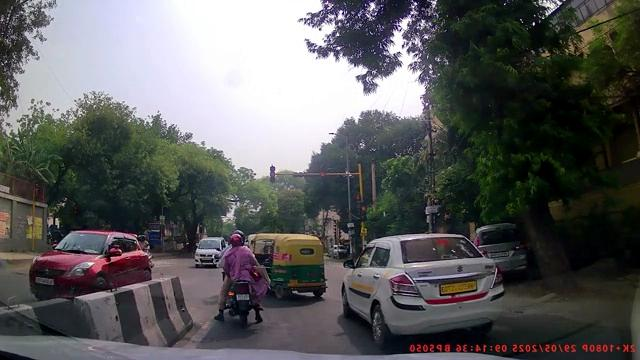passenger_with_helmet: (214, 229, 267, 328)
